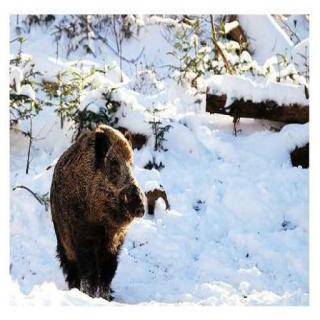Pig: (39, 96, 172, 288)
